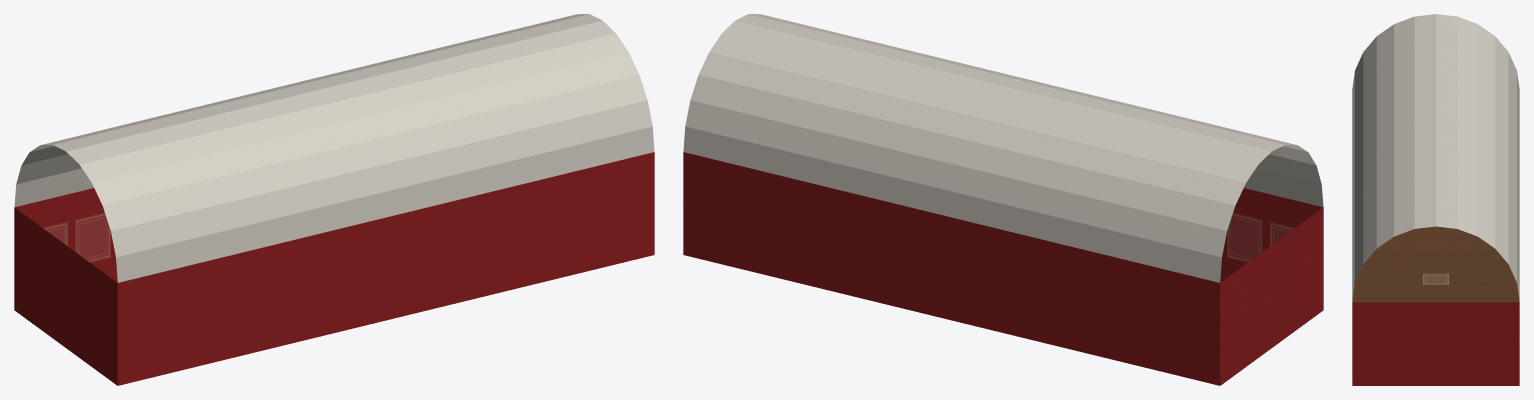
The model's file is scene_embedded.gltf.
The picture shows the model from 3 angles, left to right: view 1: azimuth 30°, elevation 25°; view 2: azimuth 150°, elevation 25°; view 3: azimuth 270°, elevation 25°; orthographic projection. The views are drawn at different scales.
Visible parts, largest first — view 1: SalonCarre; view 2: SalonCarre; view 3: SalonCarre.
Part boxes in pixels (x1=…): SalonCarre: x1=14, y1=14, x2=654, y2=385; SalonCarre: x1=683, y1=14, x2=1323, y2=385; SalonCarre: x1=1352, y1=14, x2=1519, y2=385.
Bounding box in the file's own units: 30 × 10.5 × 10.
Materials: 4 (4 with a texture image).
